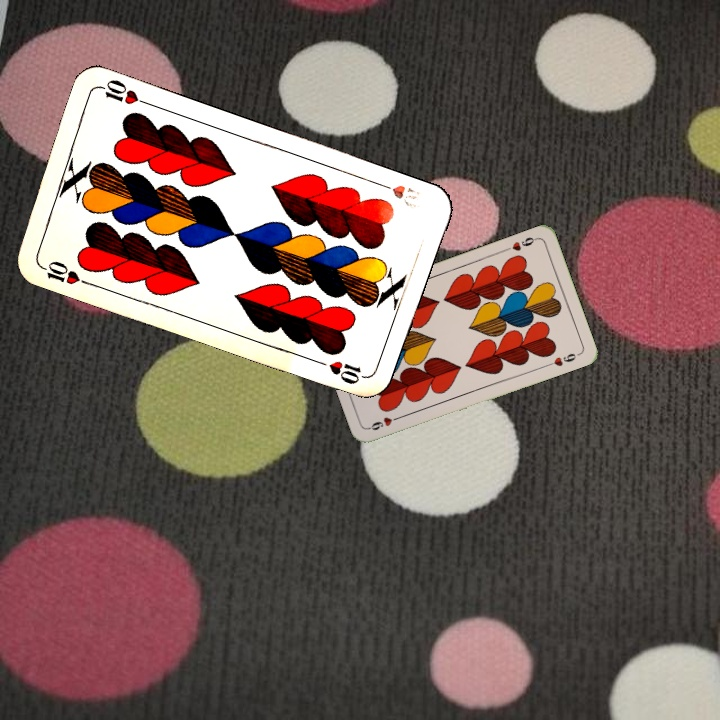H10: (35, 257, 92, 288), (372, 178, 422, 210)
H9: (501, 233, 540, 254), (365, 412, 404, 433)
